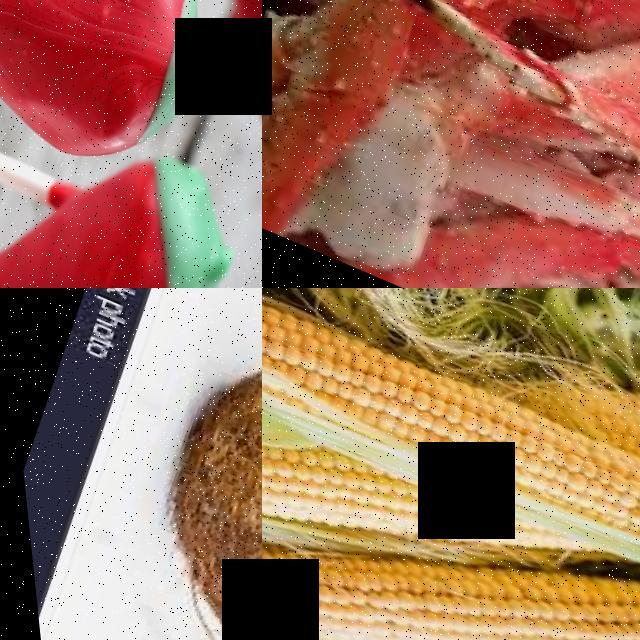coconut: (66, 288, 262, 640)
corn: (262, 288, 640, 562), (262, 498, 522, 640), (262, 417, 475, 582), (425, 516, 640, 640)
crab: (262, 0, 640, 288), (262, 0, 640, 124)
